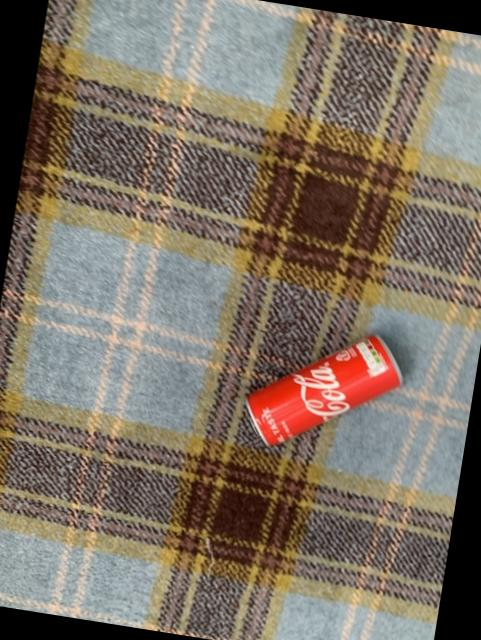metal: (245, 332, 399, 442)
